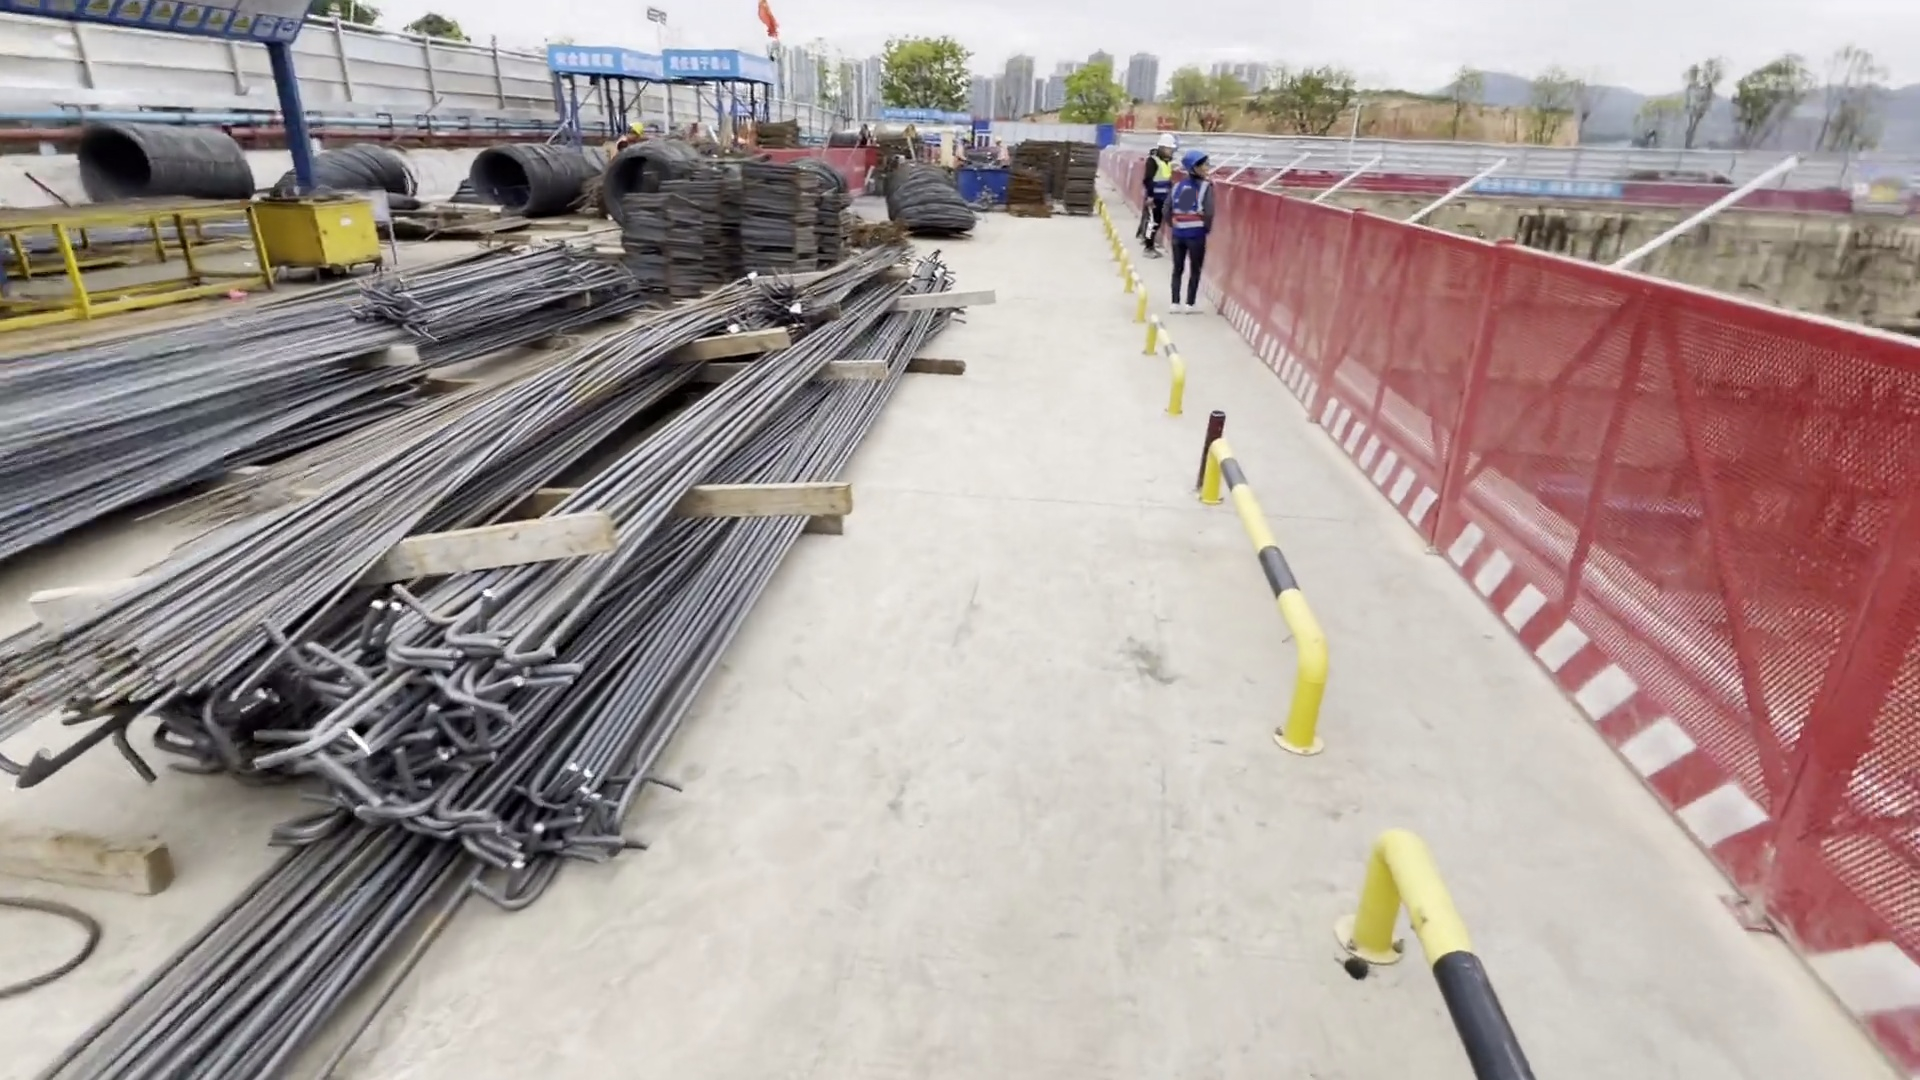fence: (1198, 174, 1920, 1064)
person: (1167, 153, 1205, 314), (1145, 136, 1172, 259)
rebar: (1, 255, 962, 840)
slogan: (656, 51, 732, 76), (554, 53, 614, 67)
